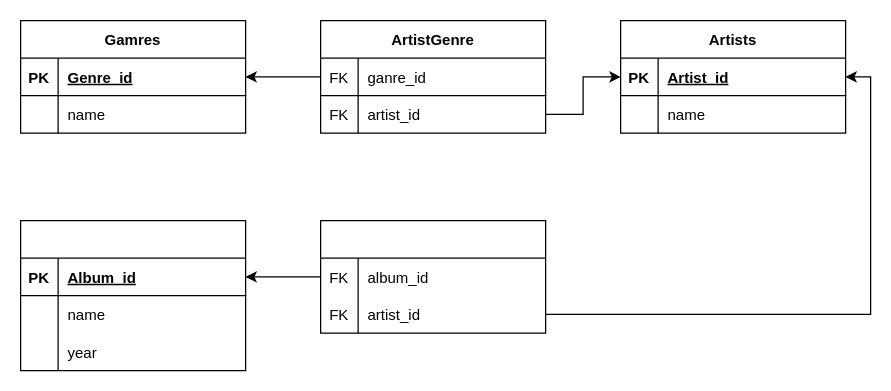
The diagram is 891 pixels wide and 391 high, and some of its shapes have lost their labels. The shapes that lost their labels are listed below. From the top down, each one's box as (x1, y1, x2, y2) in pixels, then its label:
(19, 219, 246, 371): Albums
(319, 219, 546, 333): ArtistAlbum
